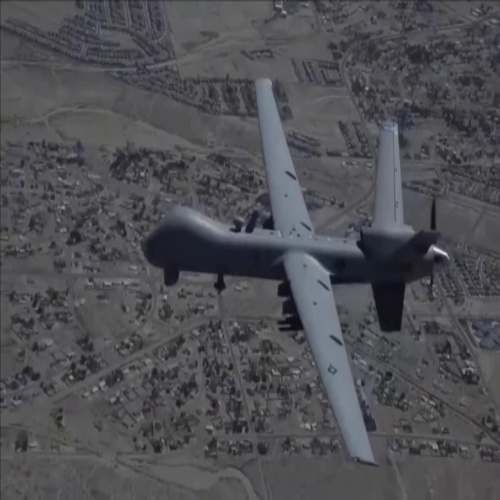uav877: (139, 79, 451, 469)
